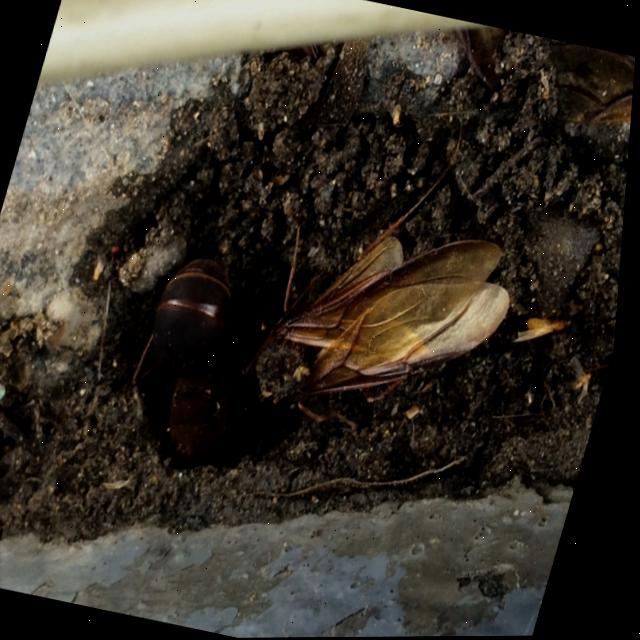Alive-Female-Dealate: (116, 250, 310, 479)
Alive-Male-Alate: (235, 125, 552, 458)
